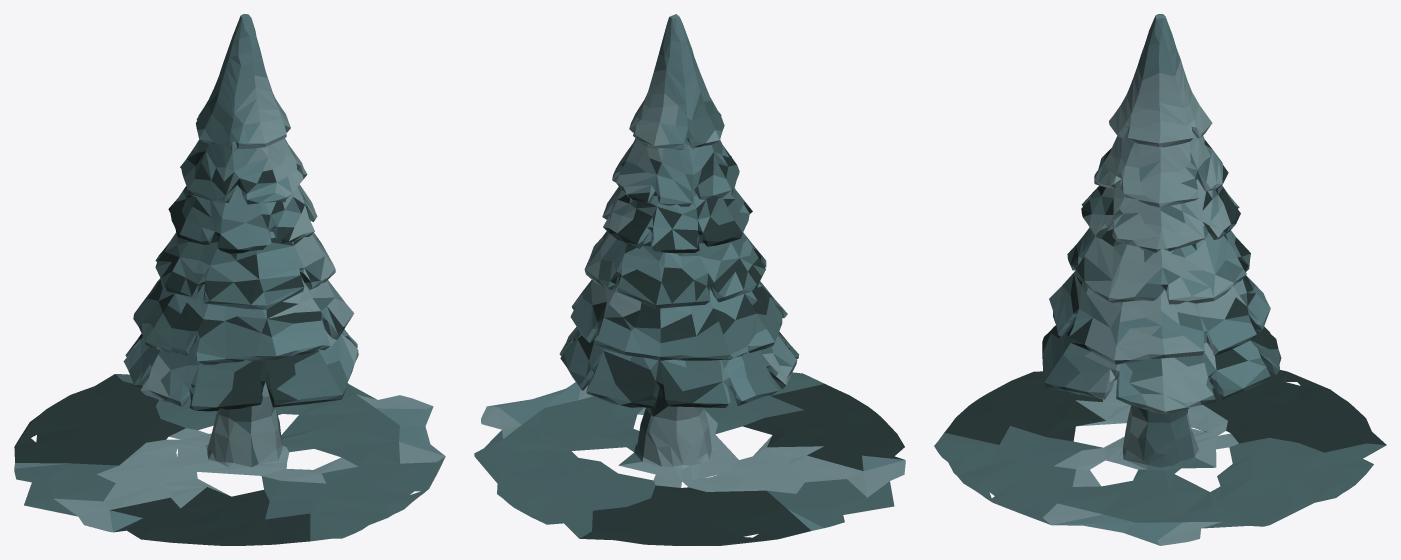
File: tree_spruce.glb
3 views of the same model, side by side, from view 1: azimuth 30°, elevation 25°; view 2: azimuth 150°, elevation 25°; view 3: azimuth 270°, elevation 25° (orthographic).
Parts seen in each view (by area): view 1: geometry_0; view 2: geometry_0; view 3: geometry_0.
Part boxes in pixels (x1,y1,x2,y2): geometry_0: (14, 14, 445, 545); geometry_0: (474, 14, 905, 545); geometry_0: (934, 14, 1386, 545).
Size of the model in its own units: 1.94 by 1.98 by 1.85.
